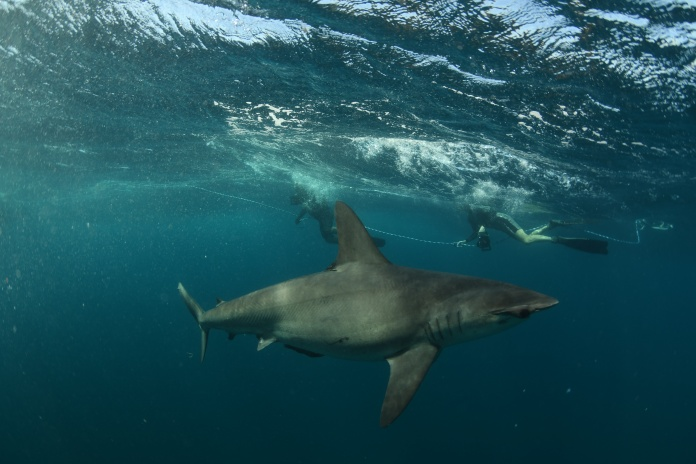Hammer: (147, 199, 568, 423)
